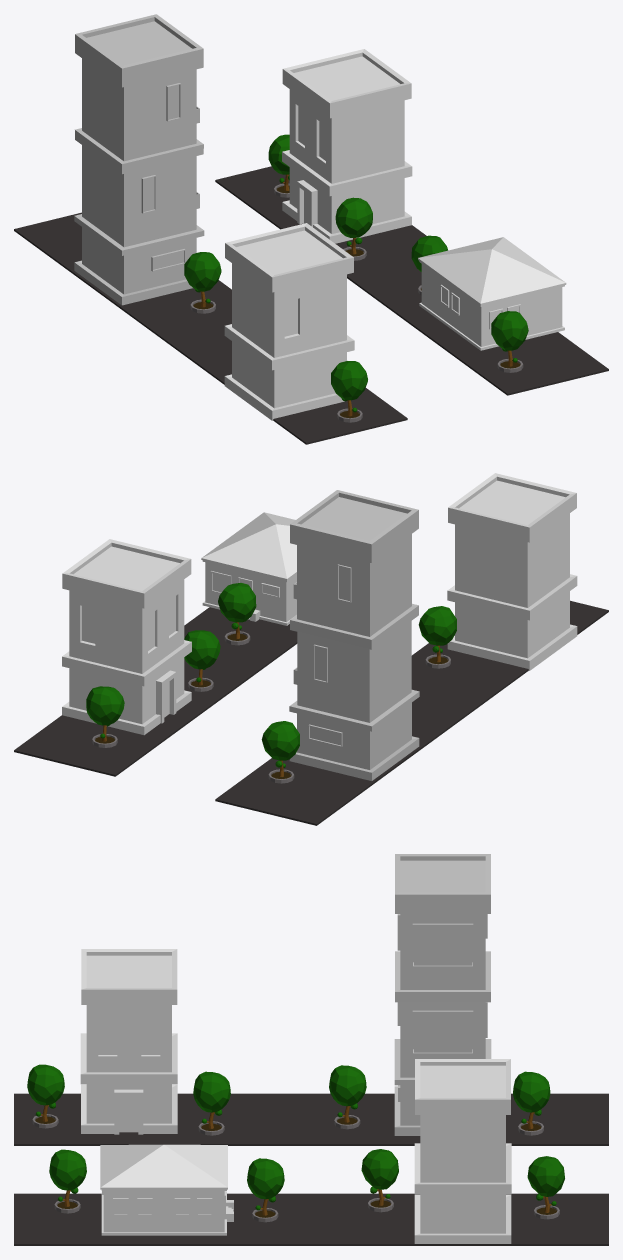
The model's file is taemplate_b_001.fbx.
3 views of the same model, one above another, from view 1: azimuth 30°, elevation 25°; view 2: azimuth 150°, elevation 25°; view 3: azimuth 270°, elevation 25° (orthographic).
Parts seen in each view (by area): view 1: three-story house.003, two-story house.001, two-story house.004, roadside.001, roadside.002, one-story house.002, tree.007, tree.006, tree.002, tree.004, tree.008, tree.005; view 2: three-story house.003, two-story house.001, two-story house.004, roadside.002, roadside.001, one-story house.002, tree.003, tree.001, tree.005, tree.008, tree.007; view 3: three-story house.003, roadside.001, roadside.002, two-story house.001, two-story house.004, one-story house.002, tree.004, tree.001, tree.006, tree.002, tree.005, tree.003 (+2 smaller).
Part boxes in pixels (box(x1,y1,x2,y2)): three-story house.003: box(74, 14, 204, 305); two-story house.001: box(224, 223, 354, 420); two-story house.004: box(282, 49, 412, 243); roadside.001: box(215, 166, 608, 395); roadside.002: box(14, 212, 407, 444); one-story house.002: box(418, 237, 566, 350); tree.007: box(335, 197, 372, 260); tree.006: box(491, 311, 528, 372); tree.002: box(184, 252, 221, 313); tree.004: box(331, 361, 367, 422); tree.008: box(268, 134, 289, 197); tree.005: box(411, 235, 447, 295); three-story house.003: box(289, 490, 419, 780); two-story house.001: box(447, 473, 577, 670); two-story house.004: box(62, 539, 191, 735); roadside.002: box(215, 600, 608, 825); roadside.001: box(14, 607, 297, 776); one-story house.002: box(201, 512, 296, 625); tree.003: box(261, 721, 299, 783); tree.001: box(418, 606, 456, 668); tree.005: box(218, 583, 256, 645); tree.008: box(86, 686, 124, 747); tree.007: box(184, 630, 220, 691); three-story house.003: box(394, 854, 491, 1135); roadside.001: box(14, 1193, 608, 1245); roadside.002: box(14, 1093, 608, 1145); two-story house.001: box(80, 949, 177, 1134); two-story house.004: box(414, 1059, 511, 1243); one-story house.002: box(100, 1144, 233, 1235); tree.004: box(27, 1064, 64, 1128); tree.001: box(193, 1071, 230, 1135); tree.006: box(49, 1149, 86, 1213); tree.002: box(329, 1065, 366, 1129); tree.005: box(247, 1158, 284, 1222); tree.003: box(513, 1071, 550, 1135).
Size of the model in its own units: 894 by 671 by 1489.
